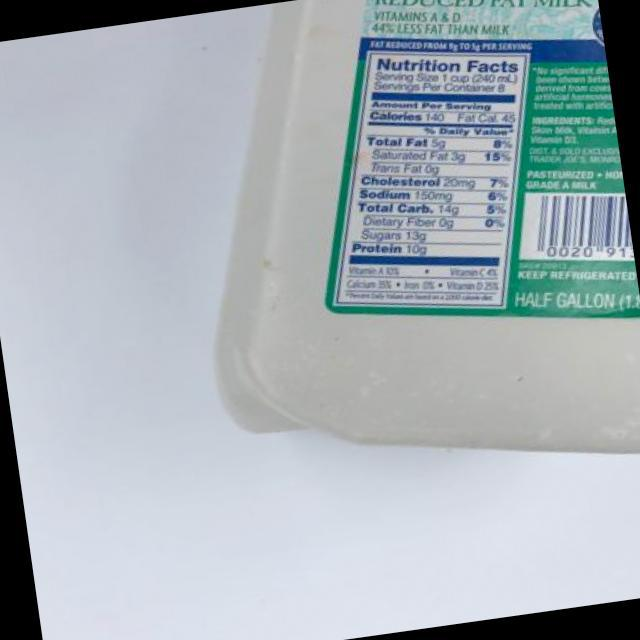HDPE Plastic: (209, 0, 639, 460)
